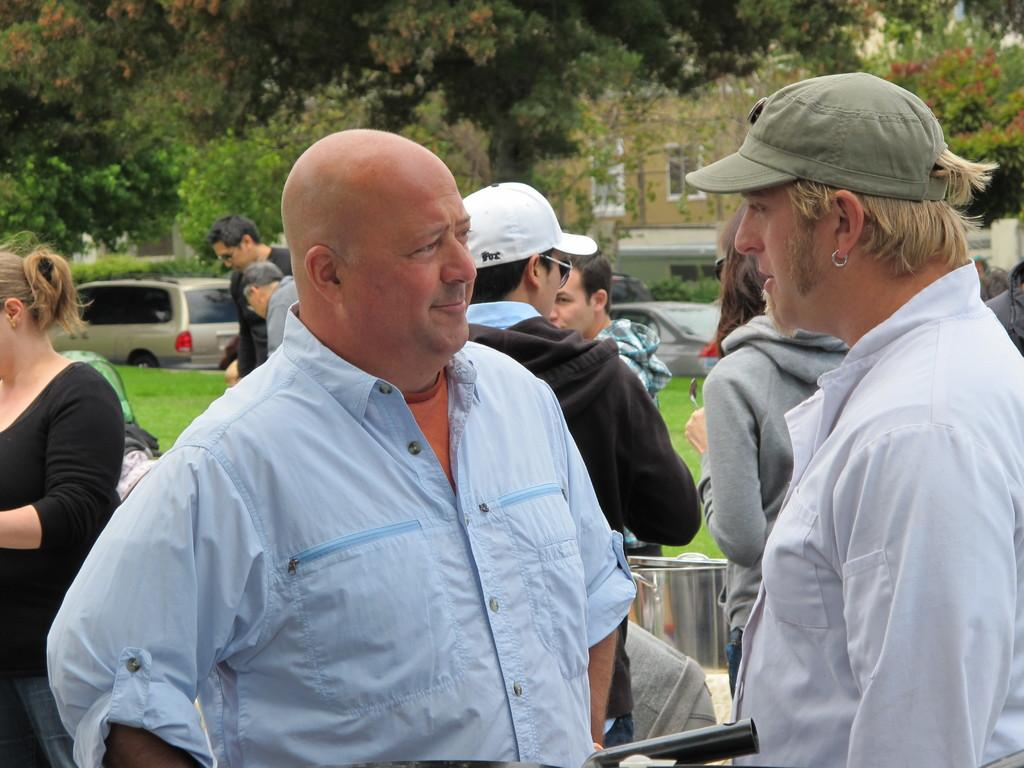Hat: (684, 72, 960, 196), (462, 178, 598, 268)
